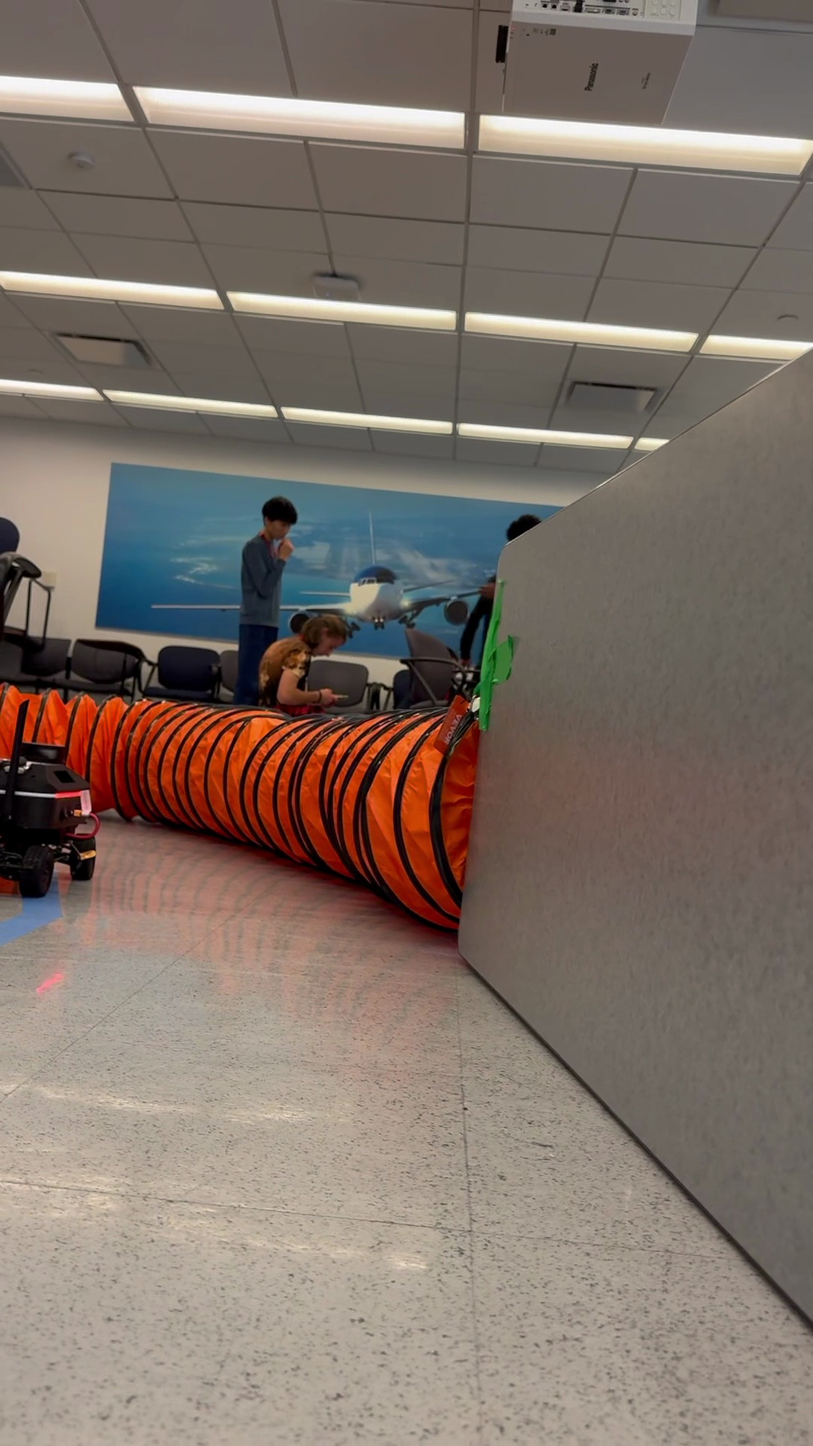racecar: (1, 727, 100, 902)
